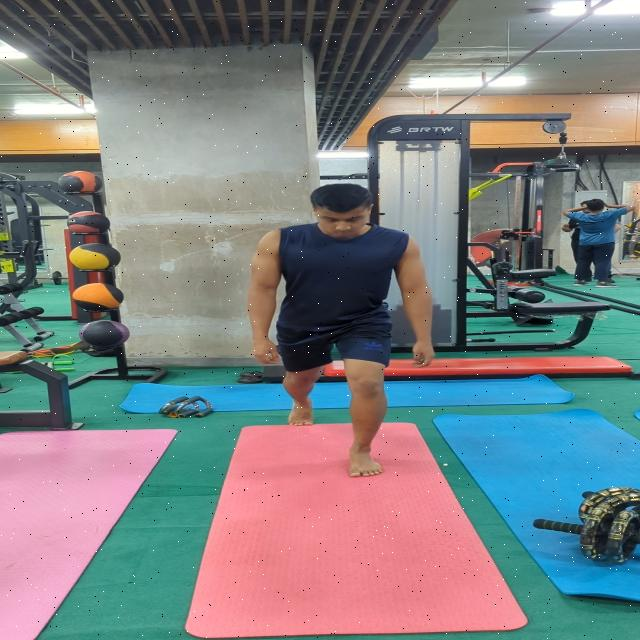Normal_Lunges: (243, 182, 446, 483)
